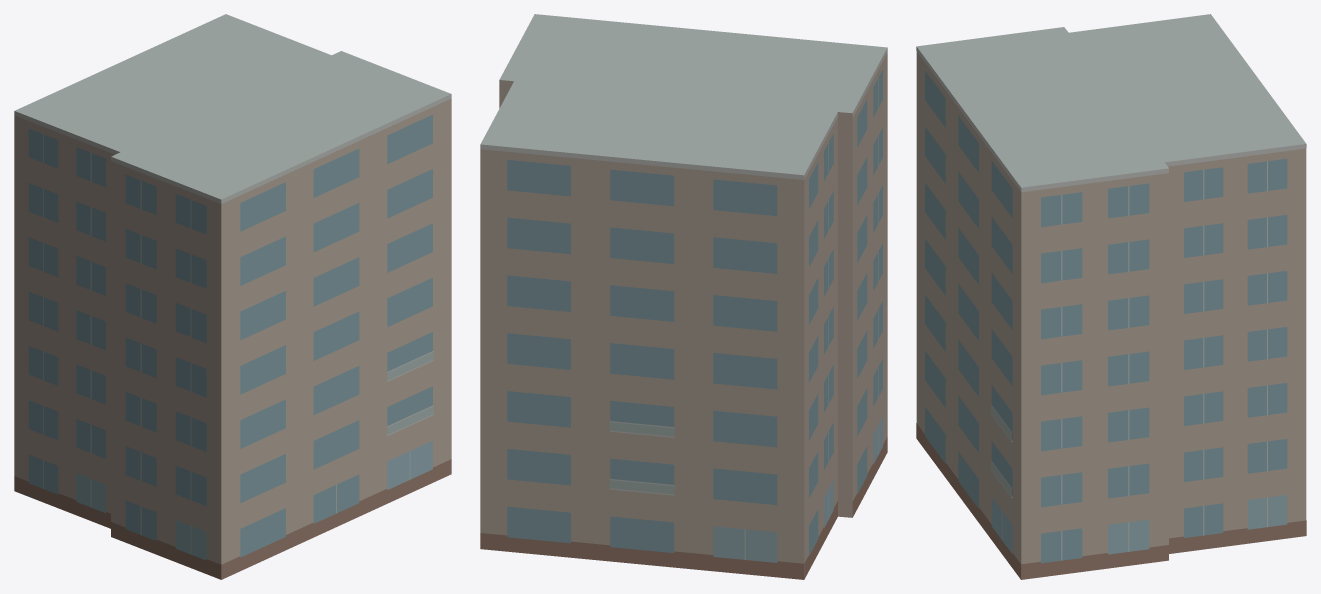
The model's file is survey-upis-32845638.glb.
The picture shows the model from 3 angles, left to right: view 1: azimuth 30°, elevation 25°; view 2: azimuth 150°, elevation 25°; view 3: azimuth 270°, elevation 25°; orthographic projection. The views are drawn at different scales.
Visible parts, largest first — view 1: survey-upis-32845638.tmp; view 2: survey-upis-32845638.tmp; view 3: survey-upis-32845638.tmp.
Part boxes in pixels (x1,y1,x2,y2): survey-upis-32845638.tmp: [14, 14, 451, 579]; survey-upis-32845638.tmp: [480, 14, 887, 579]; survey-upis-32845638.tmp: [916, 14, 1306, 579].
Size of the model in its own units: 19.63 by 20.65 by 18.62.
